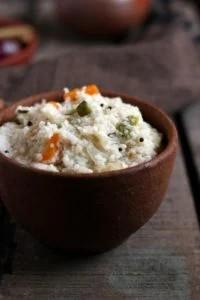CoconutChutney: (0, 83, 160, 172)
